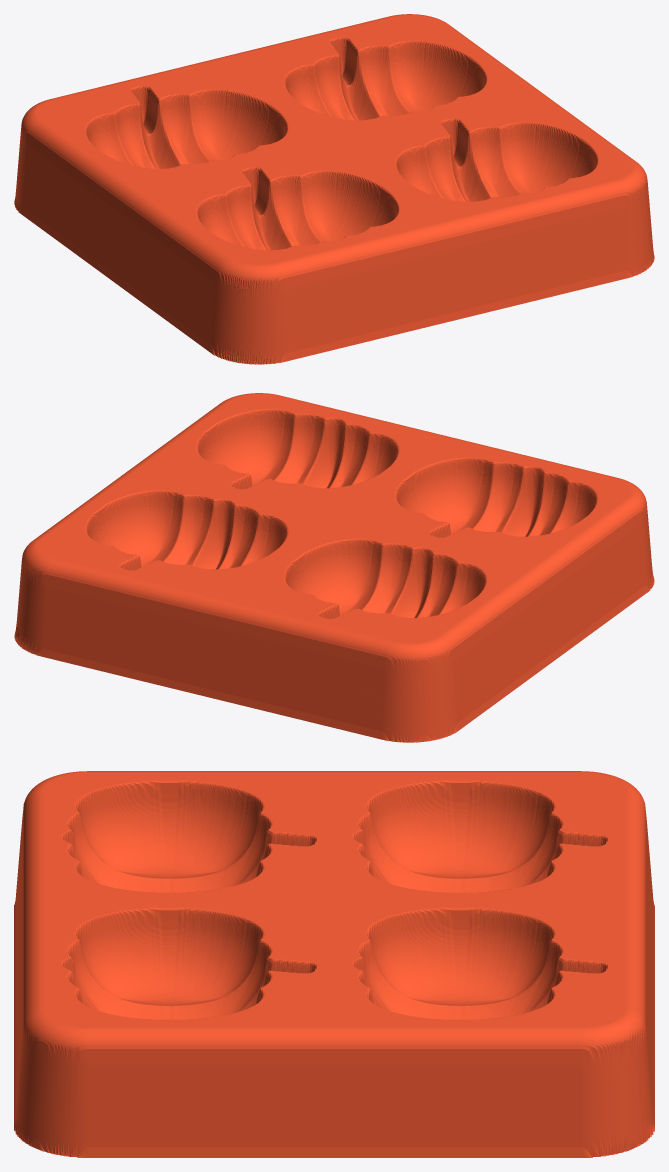
The model's file is mold.glb.
3 renders of one model, top to bottom at view 1: azimuth 30°, elevation 25°; view 2: azimuth 150°, elevation 25°; view 3: azimuth 270°, elevation 25°, orthographic. The views are drawn at different scales.
Visible parts, largest first — view 1: geometry_0; view 2: geometry_0; view 3: geometry_0.
Part boxes in pixels (<box>): geometry_0: <box>14,14,654,364</box>; geometry_0: <box>14,393,654,742</box>; geometry_0: <box>14,771,654,1157</box>.
Size of the model in its own units: 0.0808 by 0.0159 by 0.0784.
